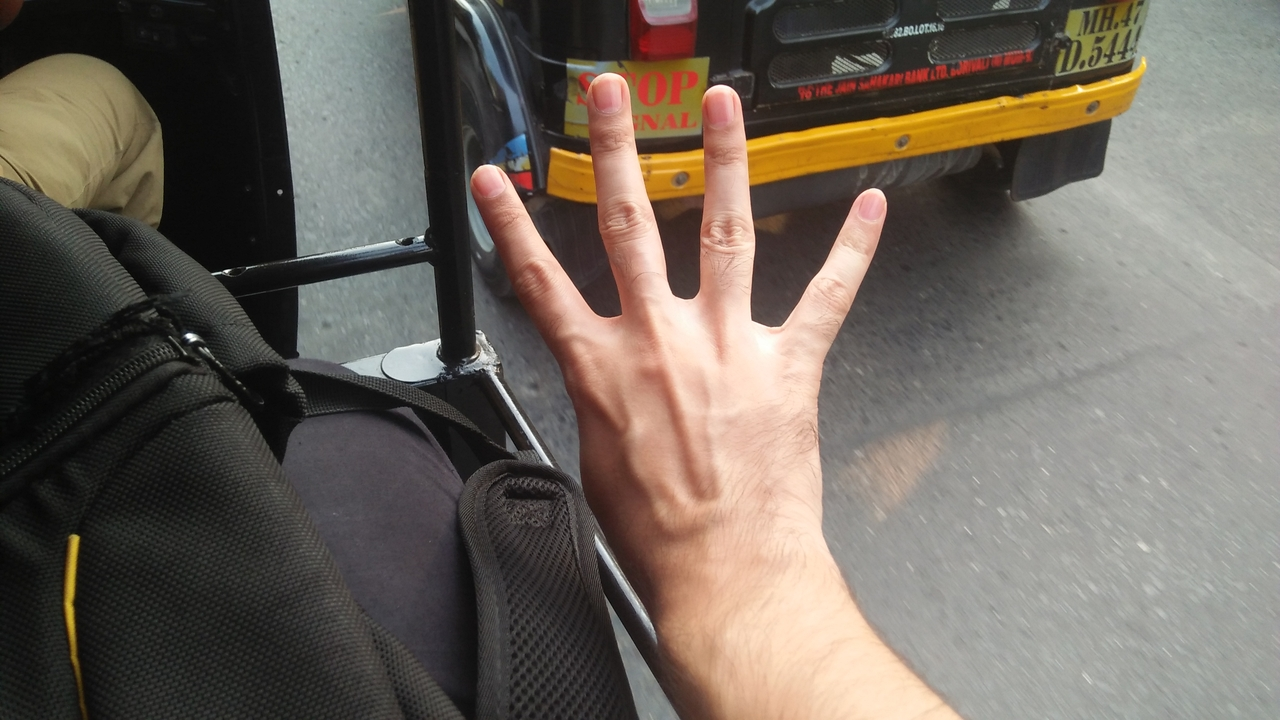fingertip: (840, 174, 906, 230), (462, 154, 518, 212), (580, 64, 634, 122), (700, 74, 748, 128)
